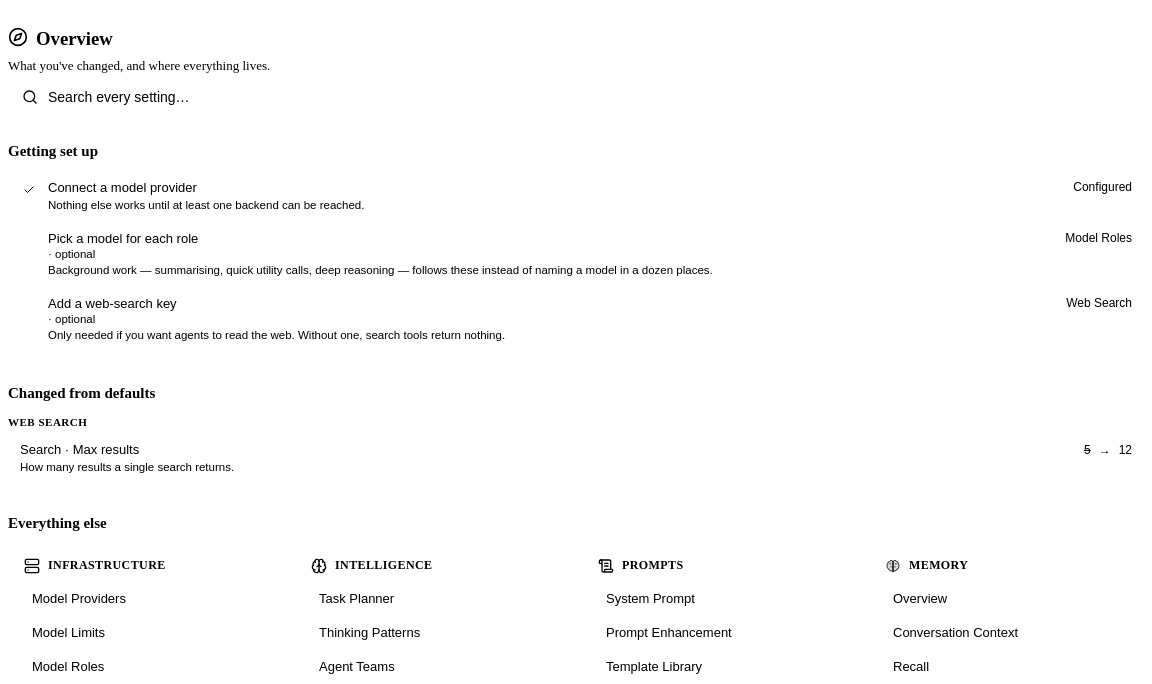
Test: OverviewSection — search › replaces the landing content while searching
The image size is (1152, 684).
Check: the heading "Changed from defaults 1" is shown, box left=8, top=385, right=190, bottom=401
In the search field labelled "Search every setting": (576, 97) left=8, top=75, right=1144, bottom=119, type "max results"
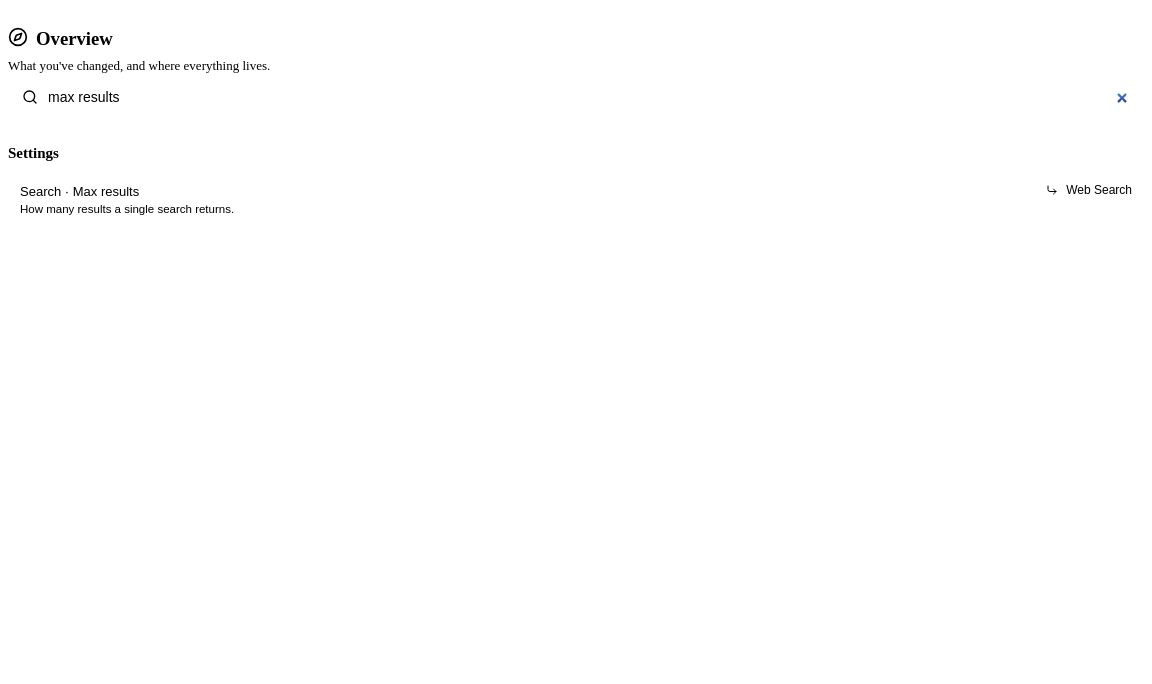
Check: the heading "Everything else" is gone
